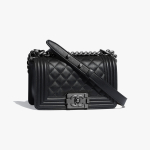channel: (26, 37, 127, 117), (49, 60, 71, 95), (69, 93, 90, 107)
